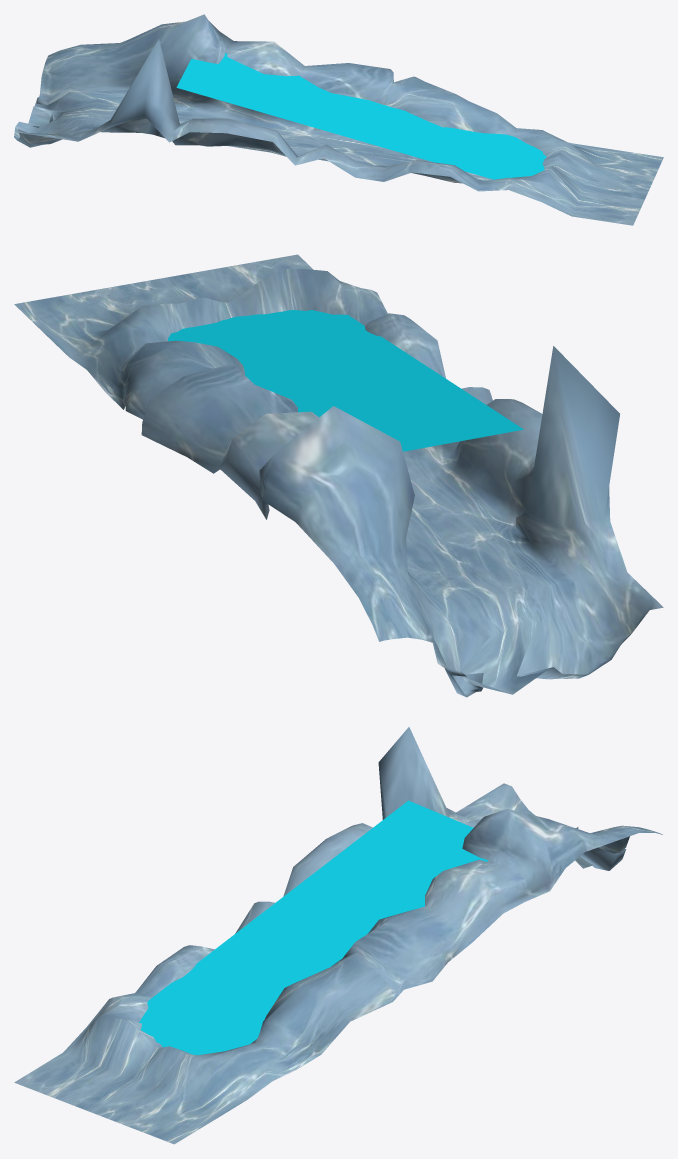
File: raytracer_water.obj
The picture shows the model from 3 angles, top to bottom: view 1: azimuth 30°, elevation 25°; view 2: azimuth 150°, elevation 25°; view 3: azimuth 270°, elevation 25°; orthographic projection. The views are drawn at different scales.
Visible parts, largest first — view 1: nurbsToPoly1, nurbsToPoly2; view 2: nurbsToPoly1, nurbsToPoly2; view 3: nurbsToPoly1, nurbsToPoly2.
Part boxes in pixels (x1=…): nurbsToPoly1: x1=14, y1=14, x2=663, y2=225; nurbsToPoly2: x1=176, y1=53, x2=546, y2=179; nurbsToPoly1: x1=14, y1=254, x2=663, y2=697; nurbsToPoly2: x1=168, y1=310, x2=523, y2=451; nurbsToPoly1: x1=14, y1=727, x2=662, y2=1144; nurbsToPoly2: x1=139, y1=800, x2=488, y2=1055.
Size of the model in its own units: 25.39 by 6.97 by 23.15.
Materials: 2 (1 with a texture image).
